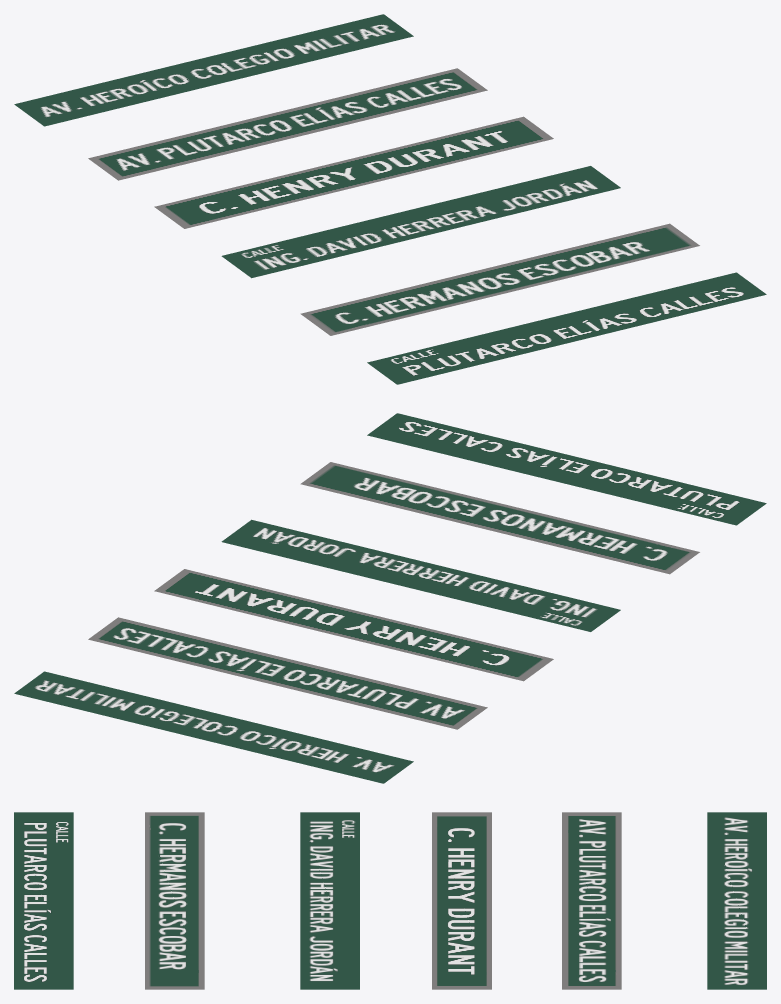
File: anuncios_calles.fbx
The picture shows the model from 3 angles, top to bottom: view 1: azimuth 30°, elevation 25°; view 2: azimuth 150°, elevation 25°; view 3: azimuth 270°, elevation 25°; orthographic projection.
Visible parts, largest first — view 1: Plane, Plane.004, Plane.005, Plane.001, Plane.002, Plane.003; view 2: Plane, Plane.004, Plane.005, Plane.001, Plane.002, Plane.003; view 3: Plane, Plane.001, Plane.002, Plane.003, Plane.004, Plane.005.
Boxes of the visible parts, x1=… form: Plane: x1=14, y1=14, x2=413, y2=126; Plane.004: x1=300, y1=223, x2=699, y2=335; Plane.005: x1=367, y1=272, x2=766, y2=384; Plane.001: x1=88, y1=68, x2=487, y2=180; Plane.002: x1=154, y1=116, x2=553, y2=228; Plane.003: x1=221, y1=166, x2=620, y2=278; Plane: x1=14, y1=671, x2=413, y2=783; Plane.004: x1=300, y1=462, x2=699, y2=574; Plane.005: x1=367, y1=413, x2=766, y2=525; Plane.001: x1=88, y1=617, x2=487, y2=729; Plane.002: x1=154, y1=569, x2=553, y2=681; Plane.003: x1=221, y1=519, x2=620, y2=631; Plane: x1=707, y1=812, x2=766, y2=989; Plane.001: x1=562, y1=812, x2=621, y2=989; Plane.002: x1=432, y1=812, x2=491, y2=989; Plane.003: x1=300, y1=812, x2=359, y2=989; Plane.004: x1=145, y1=812, x2=204, y2=989; Plane.005: x1=14, y1=812, x2=73, y2=989.
Bounding box in the file's own units: 280 × 6.49e-06 × 502.
Materials: 6 (6 with a texture image).
